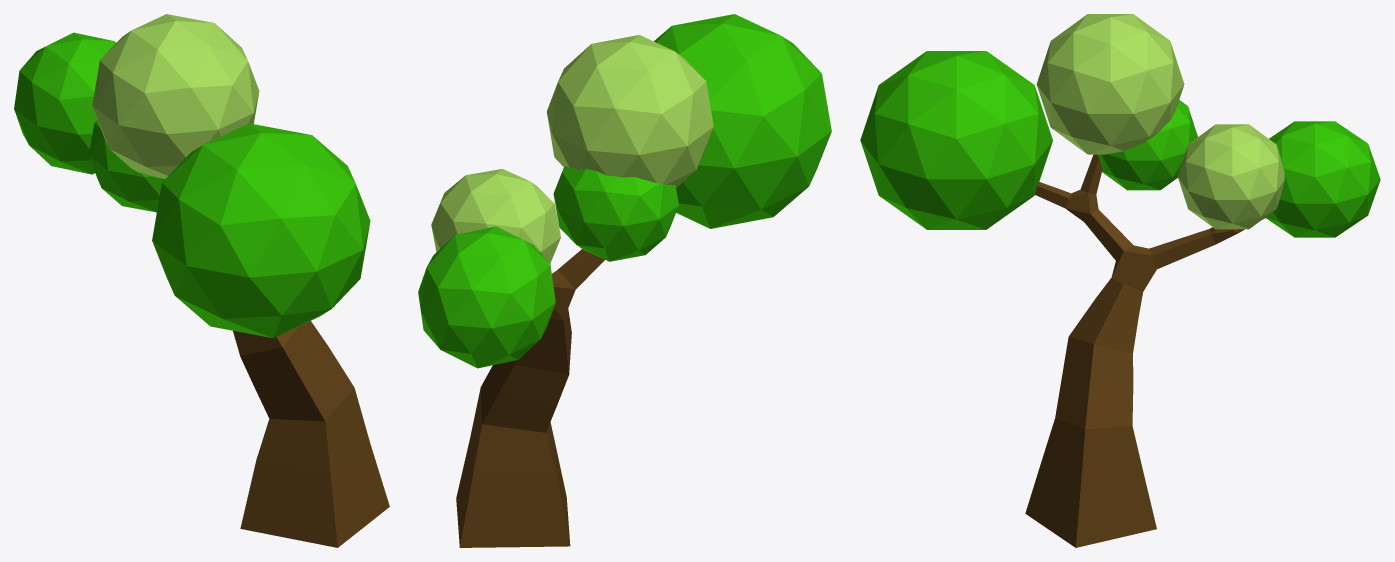
The model's file is tree1.fbx.
3 renders of one model, left to right at view 1: azimuth 30°, elevation 25°; view 2: azimuth 150°, elevation 25°; view 3: azimuth 270°, elevation 25°, orthographic. The views are drawn at different scales.
Visible parts, largest first — view 1: Icosphere.003, Cube, Icosphere.002, Icosphere, Icosphere.004; view 2: Icosphere.003, Cube, Icosphere.002, Icosphere, Icosphere.004, Icosphere.001; view 3: Cube, Icosphere.003, Icosphere.002, Icosphere, Icosphere.001, Icosphere.004.
Part boxes in pixels (x1,y1,x2,y2): Icosphere.003: (152, 123, 370, 338); Cube: (233, 321, 389, 547); Icosphere.002: (92, 14, 259, 178); Icosphere: (14, 32, 115, 174); Icosphere.004: (88, 120, 164, 212); Icosphere.003: (654, 14, 831, 228); Cube: (456, 249, 604, 547); Icosphere.002: (546, 35, 713, 187); Icosphere: (418, 226, 555, 368); Icosphere.004: (553, 166, 678, 261); Icosphere.001: (431, 169, 560, 263); Cube: (1025, 154, 1266, 547); Icosphere.003: (860, 51, 1052, 229); Icosphere.002: (1036, 14, 1184, 154); Icosphere: (1266, 121, 1380, 237); Icosphere.001: (1177, 124, 1284, 229); Icosphere.004: (1098, 100, 1197, 190).
Bounding box in the file's own units: 391 × 674 × 704.
